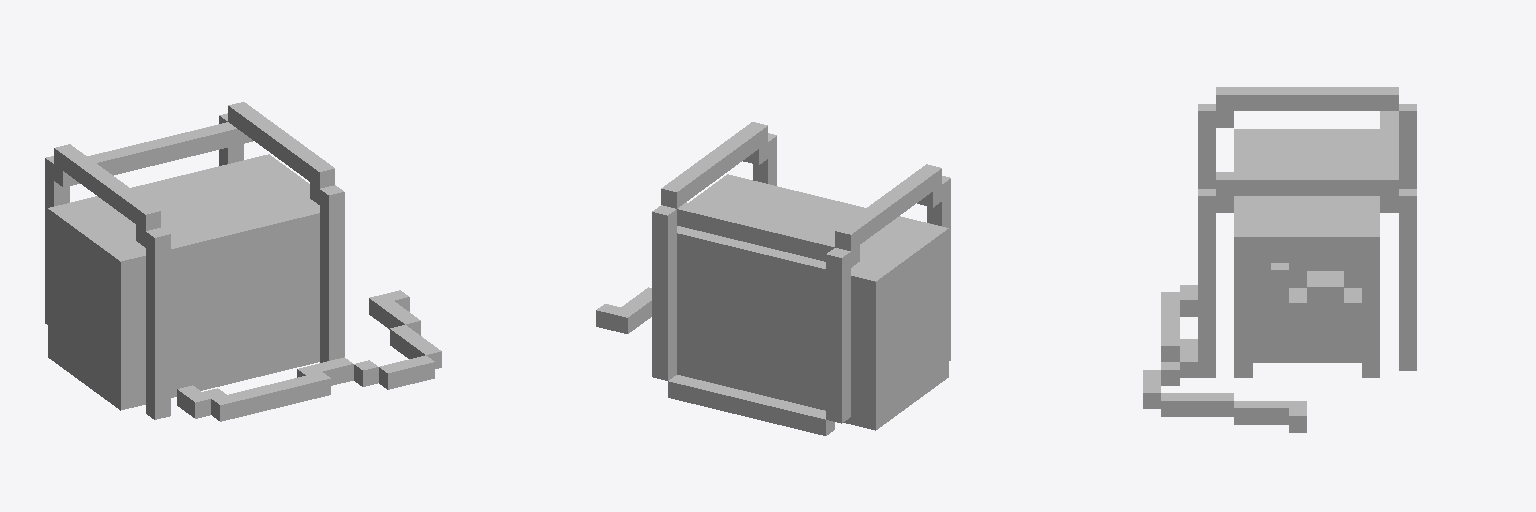
The model's file is generator.obj.
3 renders of one model, left to right at view 1: azimuth 30°, elevation 25°; view 2: azimuth 150°, elevation 25°; view 3: azimuth 270°, elevation 25°, orthographic.
Parts seen in each view (by area): view 1: generator; view 2: generator; view 3: generator.
Boxes of the visible parts, <box> form: generator: <box>45,102,441,421</box>; generator: <box>596,122,950,435</box>; generator: <box>1143,87,1416,432</box>.
Bounding box in the file's own units: 20 × 12 × 15.